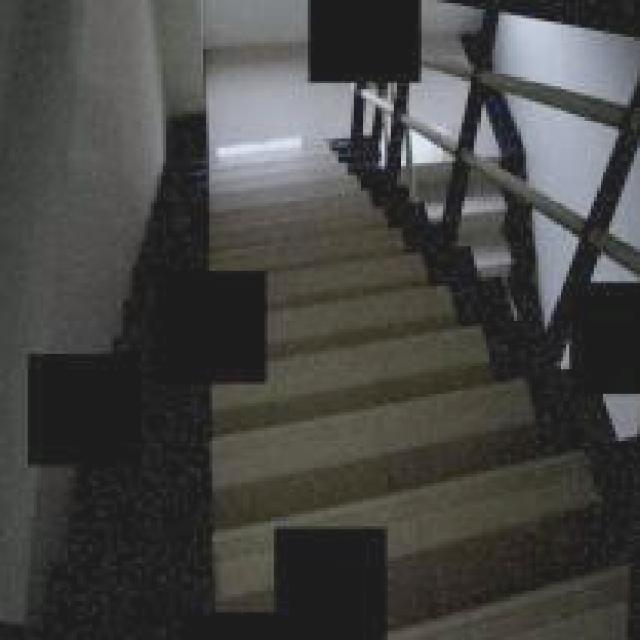downstair: (281, 238, 475, 499)
